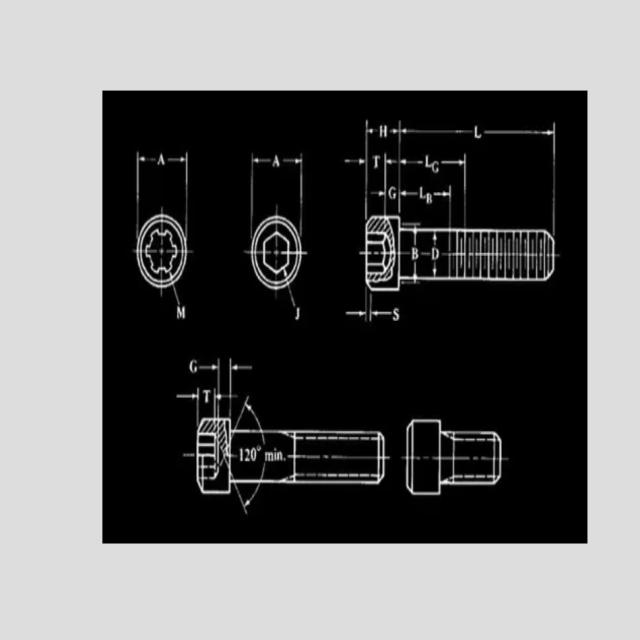marking_line: (483, 123, 556, 228), (402, 127, 474, 226), (397, 122, 467, 213), (177, 356, 255, 417), (131, 144, 190, 214), (362, 120, 403, 215), (250, 151, 305, 216), (402, 184, 453, 227), (344, 294, 401, 324), (398, 185, 453, 215), (343, 159, 368, 220), (283, 150, 305, 217), (229, 357, 253, 418), (135, 151, 157, 214), (168, 151, 189, 215), (250, 153, 271, 216), (369, 293, 401, 325), (233, 395, 262, 429), (344, 285, 369, 324), (176, 386, 199, 427), (232, 484, 262, 515), (383, 152, 397, 215), (439, 154, 467, 185), (198, 358, 221, 388), (551, 121, 556, 236), (134, 152, 141, 230), (184, 149, 190, 235), (370, 186, 386, 215), (298, 152, 303, 236), (399, 155, 423, 168), (250, 152, 253, 239), (432, 232, 437, 276), (172, 287, 181, 305), (288, 286, 296, 306)
numeric: (250, 447, 256, 462), (238, 446, 243, 463), (245, 448, 250, 463)
special_symbol: (257, 445, 262, 452)
